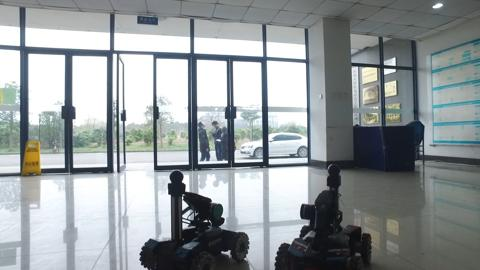chariot: (140, 171, 253, 270), (274, 165, 373, 269)
